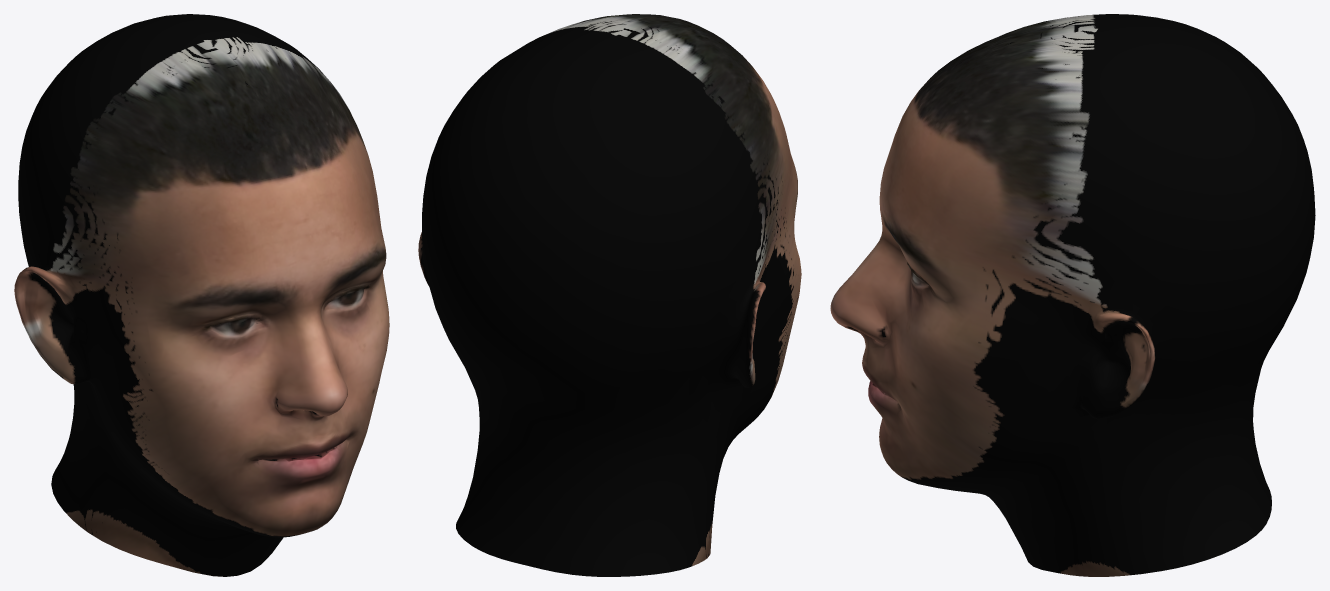
The picture shows the model from 3 angles, left to right: view 1: azimuth 30°, elevation 25°; view 2: azimuth 150°, elevation 25°; view 3: azimuth 270°, elevation 25°; orthographic projection. The views are drawn at different scales.
Parts seen in each view (by area): view 1: FBHead; view 2: FBHead; view 3: FBHead.
Boxes of the visible parts, x1,y1,x2,y2 form: FBHead: (14,14,389,576); FBHead: (418,14,801,576); FBHead: (830,14,1315,576).
Size of the model in its own units: 1.75 by 2.6 by 2.17.
1 material, 1 textured.
